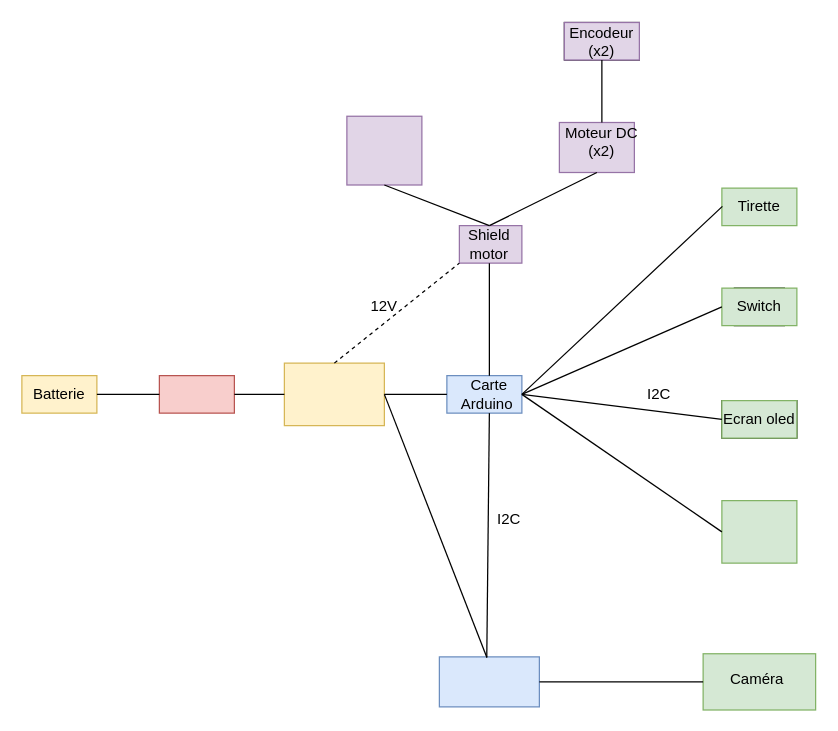
Image size: 838x731. Some labels were removed from this diagram. Each missing label, with the centre of its shape:
"Bouton urgence" belongs at (x=196, y=393).
"Capteur ultrason (x4)" belongs at (x=759, y=531).
"Convertisseur buck" belongs at (x=333, y=394).
"Raspberry pi" belongs at (x=488, y=681).
"Servo moteur (x3)" belongs at (x=384, y=150).
